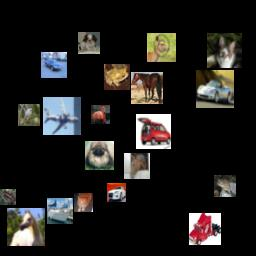airplane: (43, 97, 81, 135)
automobile: (196, 70, 234, 108), (136, 114, 171, 149), (41, 52, 67, 78), (107, 183, 126, 202)
bird: (18, 104, 40, 126), (91, 105, 110, 124)
cat: (207, 33, 242, 68), (74, 193, 93, 212)
deer: (147, 33, 176, 62)
dog: (85, 141, 114, 170), (78, 32, 100, 54)
frog: (104, 64, 130, 90), (214, 175, 236, 197), (0, 189, 16, 205)
ship: (47, 198, 73, 224)
truck: (189, 213, 221, 245)
